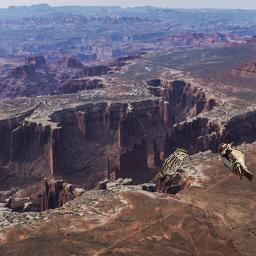Sparrow: (150, 147, 190, 184)
Woodpecker: (218, 142, 253, 182)
